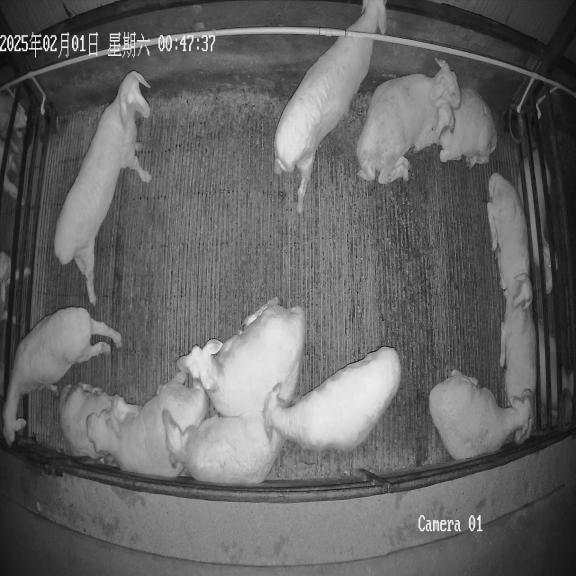lying: (177, 298, 306, 416), (269, 347, 401, 451), (357, 59, 461, 184), (88, 372, 208, 477), (429, 370, 533, 460), (162, 412, 285, 484), (487, 173, 531, 307), (439, 88, 497, 168), (59, 382, 112, 459), (500, 294, 536, 404)
stand: (54, 70, 151, 303), (274, 36, 374, 213), (2, 307, 122, 446), (348, 0, 387, 34)
